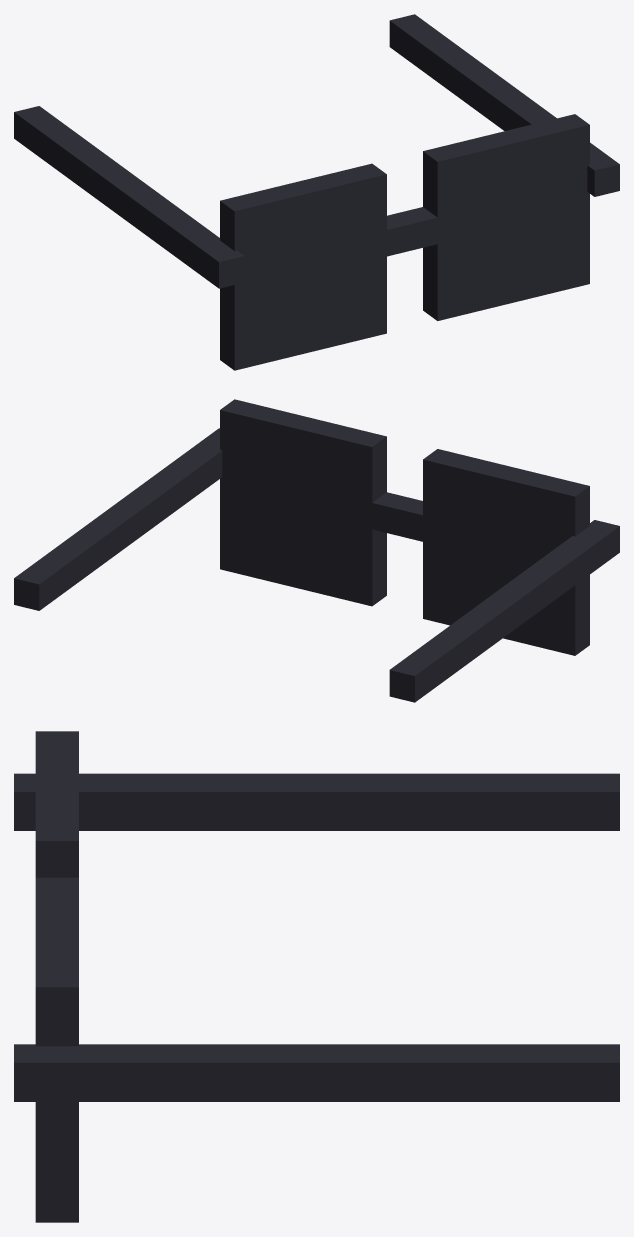
Rendered from CatCafe_Accessory_Glasses.glb.
3 views of the same model, one above another, from view 1: azimuth 30°, elevation 25°; view 2: azimuth 150°, elevation 25°; view 3: azimuth 270°, elevation 25° (orthographic). The views are drawn at different scales.
Visible parts, largest first — view 1: CatCafe_Accessory_Glasses; view 2: CatCafe_Accessory_Glasses; view 3: CatCafe_Accessory_Glasses.
Part boxes in pixels (x1=…): CatCafe_Accessory_Glasses: x1=14, y1=14, x2=619, y2=370; CatCafe_Accessory_Glasses: x1=14, y1=399, x2=619, y2=702; CatCafe_Accessory_Glasses: x1=14, y1=731, x2=619, y2=1222.
Size of the model in its own units: 0.79 by 0.3 by 0.7.
1 material, 1 textured.
